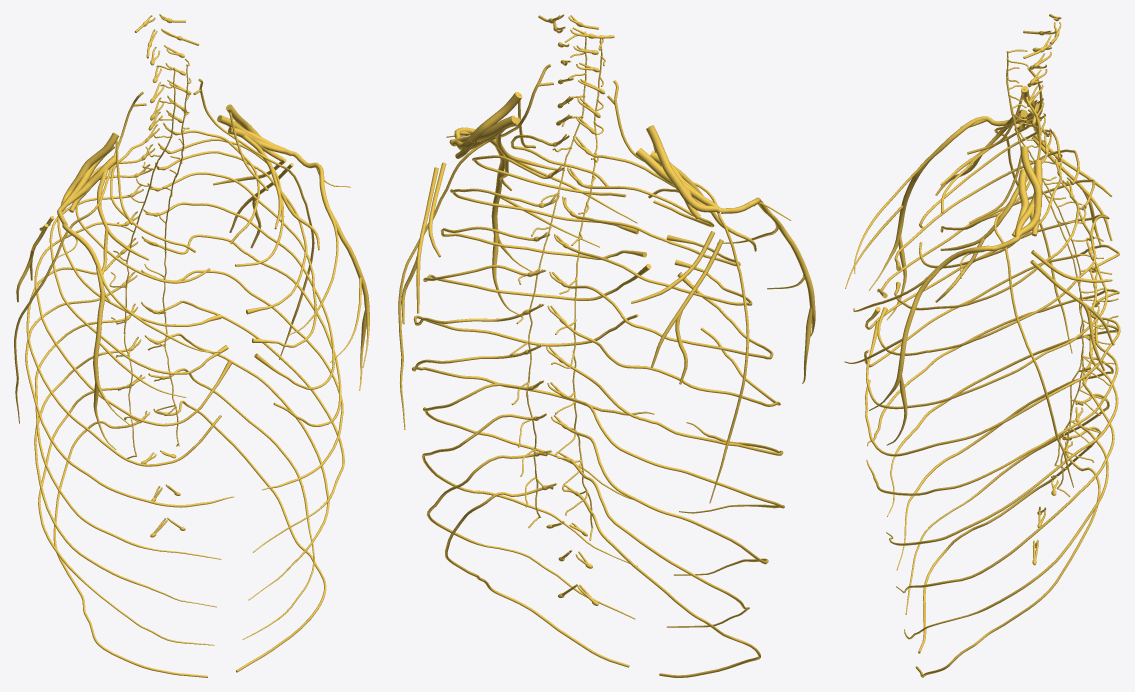
The model's file is nervous_peripheral.thorax.glb.
The picture shows the model from 3 angles, left to right: view 1: azimuth 30°, elevation 25°; view 2: azimuth 150°, elevation 25°; view 3: azimuth 270°, elevation 25°; orthographic projection. The views are drawn at different scales.
Parts seen in each view (by area): view 1: right_intercostal_nerves, left_intercostal_nerves, right_lateral_pectoral_nerve, left_lateral_pectoral_nerve, right_long_thoracic_nerve, left_long_thoracic_nerve, right_sympathetic_trunk, left_sympathetic_trunk, right_anterior_root_of_spinal_nerve, left_medial_pectoral_nerve, right_medial_pectoral_nerve, left_anterior_root_of_spinal_nerve (+2 smaller); view 2: left_intercostal_nerves, right_intercostal_nerves, left_lateral_pectoral_nerve, right_lateral_pectoral_nerve, right_long_thoracic_nerve, left_long_thoracic_nerve, right_posterior_root_of_spinal_nerve, left_sympathetic_trunk, right_sympathetic_trunk, right_inferior_subscapular_nerve, left_inferior_subscapular_nerve, right_anterior_root_of_spinal_nerve (+4 smaller); view 3: left_intercostal_nerves, right_intercostal_nerves, left_lateral_pectoral_nerve, right_lateral_pectoral_nerve, left_long_thoracic_nerve, left_sympathetic_trunk, left_sympathetic_nerves, left_medial_pectoral_nerve, left_inferior_subscapular_nerve, right_long_thoracic_nerve, left_posterior_root_of_spinal_nerve, left_anterior_root_of_spinal_nerve (+6 smaller).
Part boxes in pixels (<box>): right_intercostal_nerves: <box>25,140,233,677</box>; left_intercostal_nerves: <box>156,130,344,672</box>; right_lateral_pectoral_nerve: <box>55,208,219,449</box>; left_lateral_pectoral_nerve: <box>289,151,369,390</box>; right_long_thoracic_nerve: <box>14,91,146,423</box>; left_long_thoracic_nerve: <box>193,78,314,359</box>; right_sympathetic_trunk: <box>124,65,175,458</box>; left_sympathetic_trunk: <box>162,58,189,446</box>; right_anterior_root_of_spinal_nerve: <box>126,17,167,533</box>; left_medial_pectoral_nerve: <box>242,135,319,250</box>; right_medial_pectoral_nerve: <box>97,168,148,302</box>; left_anterior_root_of_spinal_nerve: <box>143,16,199,528</box>; left_intercostal_nerves: <box>412,134,654,667</box>; right_intercostal_nerves: <box>563,152,784,677</box>; left_lateral_pectoral_nerve: <box>446,127,637,314</box>; right_lateral_pectoral_nerve: <box>717,197,815,383</box>; right_long_thoracic_nerve: <box>607,80,749,503</box>; left_long_thoracic_nerve: <box>398,64,553,429</box>; right_posterior_root_of_spinal_nerve: <box>546,16,599,602</box>; left_sympathetic_trunk: <box>526,33,587,528</box>; right_sympathetic_trunk: <box>572,38,603,540</box>; right_inferior_subscapular_nerve: <box>651,239,723,384</box>; left_inferior_subscapular_nerve: <box>401,167,438,324</box>; right_anterior_root_of_spinal_nerve: <box>549,15,614,600</box>; left_intercostal_nerves: <box>865,151,1120,677</box>; right_intercostal_nerves: <box>864,125,1119,653</box>; left_lateral_pectoral_nerve: <box>844,236,1019,445</box>; right_lateral_pectoral_nerve: <box>845,116,1018,320</box>; left_long_thoracic_nerve: <box>994,96,1073,487</box>; left_sympathetic_trunk: <box>1006,59,1083,497</box>; left_sympathetic_nerves: <box>1007,77,1118,462</box>; left_medial_pectoral_nerve: <box>935,185,1018,302</box>; left_inferior_subscapular_nerve: <box>1030,260,1114,370</box>; right_long_thoracic_nerve: <box>994,67,1072,353</box>; left_posterior_root_of_spinal_nerve: <box>1030,22,1099,560</box>; left_anterior_root_of_spinal_nerve: <box>1023,22,1095,559</box>.
Bounding box in the file's own units: 0.2767 × 0.5444 × 0.212.
